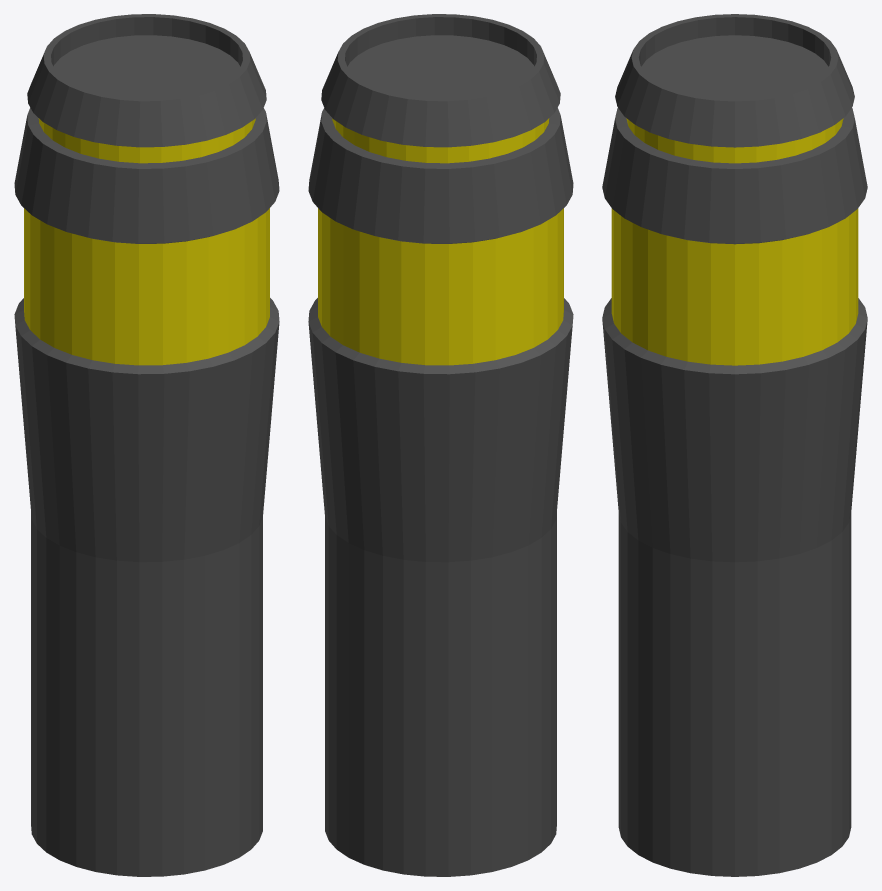
Rendered from Metal_Collector.fbx.
The picture shows the model from 3 angles, left to right: view 1: azimuth 30°, elevation 25°; view 2: azimuth 150°, elevation 25°; view 3: azimuth 270°, elevation 25°; orthographic projection.
Parts seen in each view (by area): view 1: Collector; view 2: Collector; view 3: Collector.
Part boxes in pixels (bbox=[...]): Collector: bbox=[14, 14, 279, 876]; Collector: bbox=[308, 14, 573, 876]; Collector: bbox=[602, 14, 867, 876].
Size of the model in its own units: 105 by 335 by 105.
